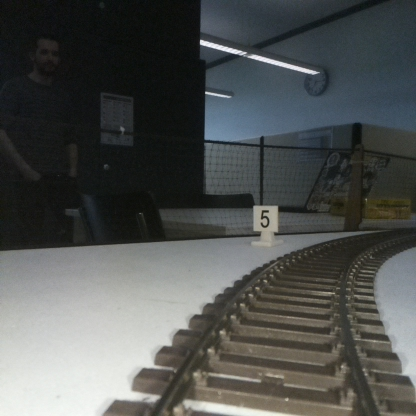white-stop-5: (253, 205, 277, 244)
